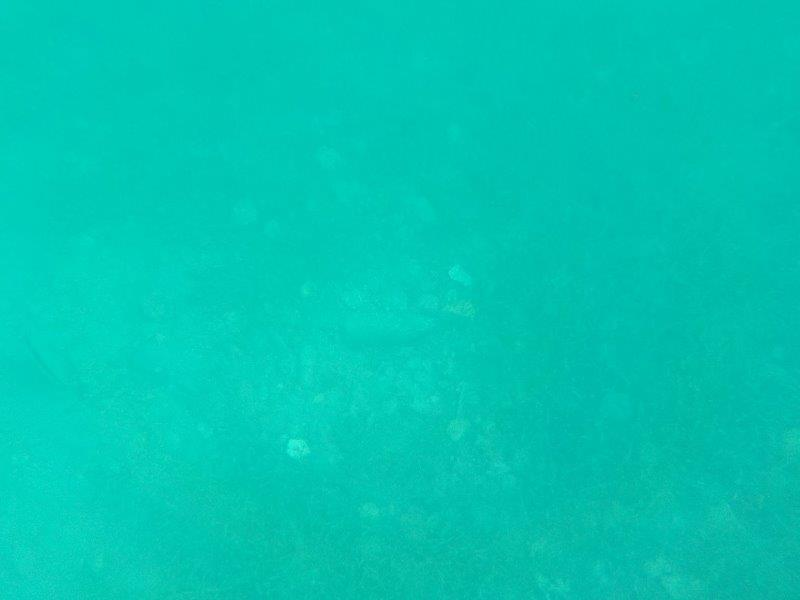bottle: (337, 308, 443, 349)
